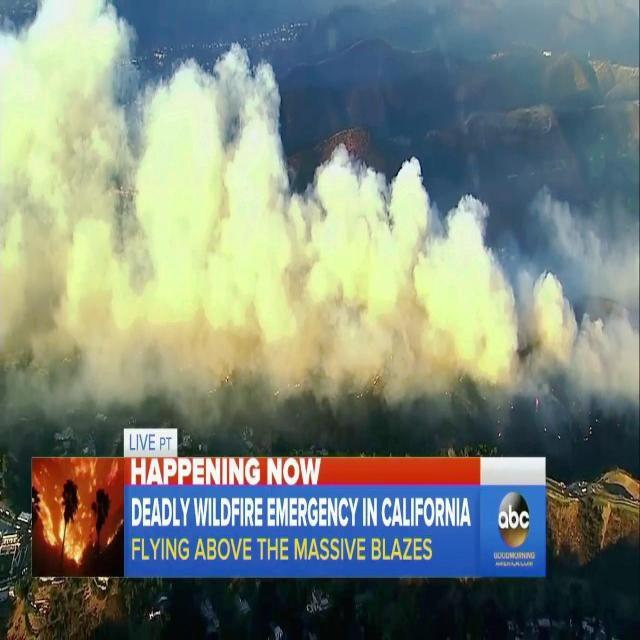Smoke: (0, 2, 639, 422), (136, 34, 400, 417), (404, 148, 636, 414), (0, 0, 127, 308)
